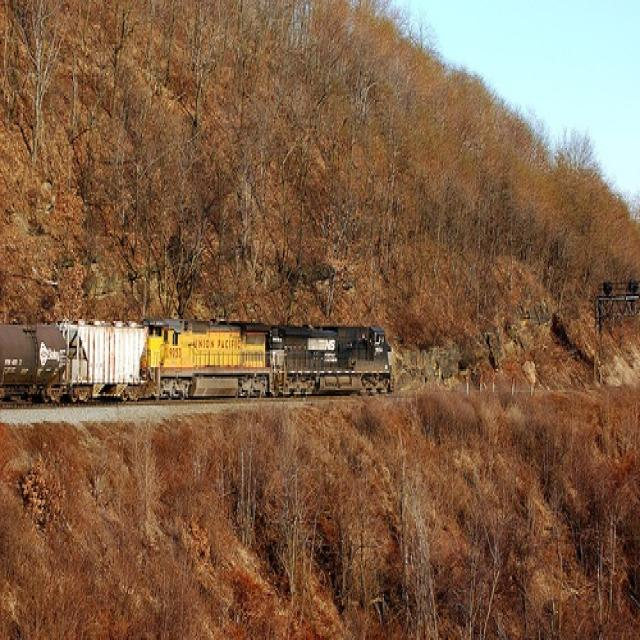train: (0, 321, 393, 400)
